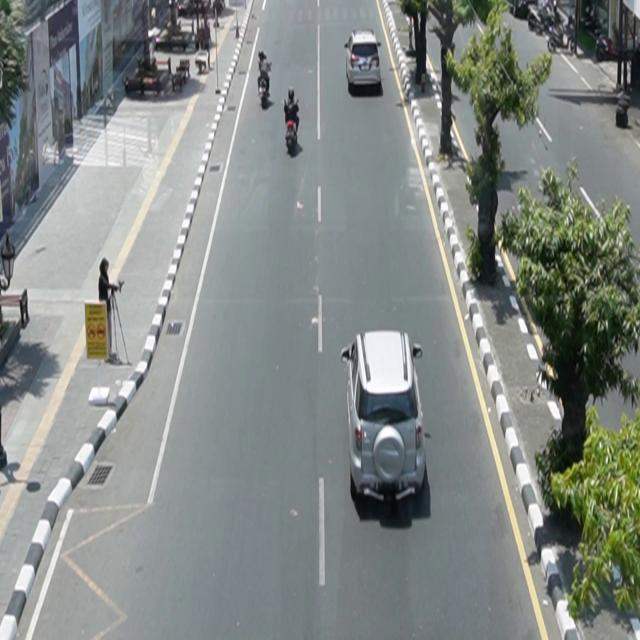car: (341, 329, 427, 506), (345, 29, 383, 88)
